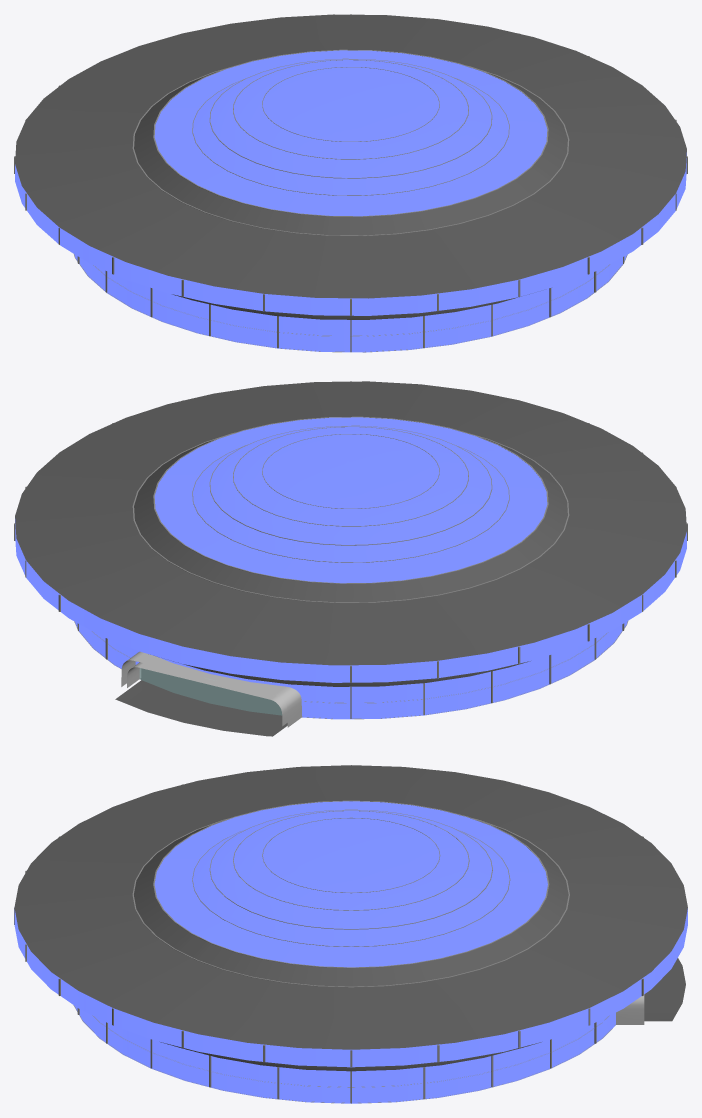
File: boxing.fbx
3 views of the same model, one above another, from view 1: azimuth 30°, elevation 25°; view 2: azimuth 150°, elevation 25°; view 3: azimuth 270°, elevation 25° (orthographic).
Visible parts, largest first — view 1: pCylinder496, pCube450, pCube494, pCube493, pCube496, pCube497, pCube495, pCube492; view 2: pCylinder496, pCube377.001, pCube494, pCube493, pCube450, pCube496, pCube497, pCube495; view 3: pCylinder496, pCube450, pCube494, pCube493, pCube496, pCube497, pCube377.001, pCube495, pCube492.
Boxes of the visible parts, left/top/right/bottom form: pCylinder496: left=15, top=14, right=686, bottom=352; pCube450: left=74, top=254, right=627, bottom=352; pCube494: left=153, top=49, right=548, bottom=217; pCube493: left=132, top=65, right=569, bottom=236; pCube496: left=209, top=58, right=492, bottom=178; pCube497: left=233, top=59, right=468, bottom=159; pCube495: left=192, top=78, right=509, bottom=195; pCube492: left=14, top=14, right=687, bottom=315; pCylinder496: left=15, top=381, right=686, bottom=736; pCube377.001: left=121, top=651, right=301, bottom=727; pCube494: left=153, top=416, right=548, bottom=583; pCube493: left=132, top=432, right=569, bottom=603; pCube450: left=74, top=621, right=628, bottom=719; pCube496: left=209, top=425, right=492, bottom=545; pCube497: left=233, top=426, right=468, bottom=526; pCube495: left=192, top=445, right=509, bottom=562; pCylinder496: left=14, top=765, right=687, bottom=1103; pCube450: left=73, top=1005, right=615, bottom=1103; pCube494: left=153, top=800, right=549, bottom=968; pCube493: left=132, top=818, right=569, bottom=987; pCube496: left=209, top=809, right=492, bottom=929; pCube497: left=233, top=810, right=469, bottom=910; pCube377.001: left=616, top=995, right=644, bottom=1024; pCube495: left=192, top=830, right=510, bottom=946; pCube492: left=14, top=770, right=643, bottom=1066.
Bounding box in the file's own units: 8343 × 2432 × 8336.
